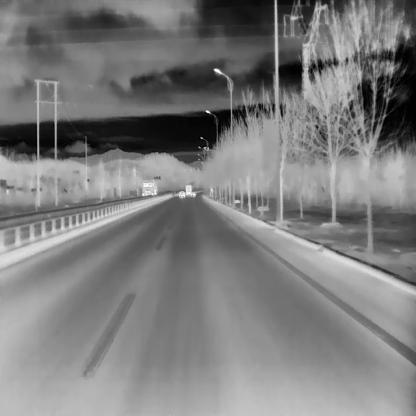car: (141, 179, 157, 197), (185, 184, 191, 195), (178, 190, 185, 198), (191, 191, 196, 197)
